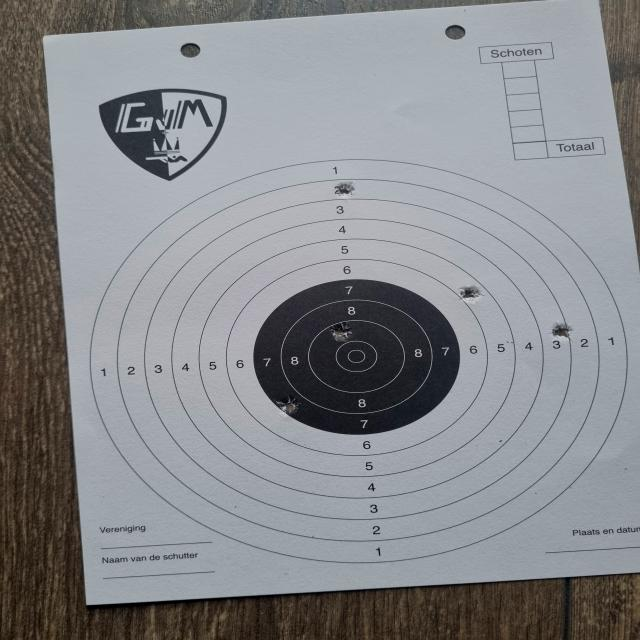2: (334, 182, 357, 198)
3: (548, 322, 574, 342)
6: (457, 286, 485, 301)
7: (274, 396, 300, 413)
9: (330, 322, 355, 342)
Target: (93, 158, 628, 563)
black_contour: (252, 278, 458, 434)
